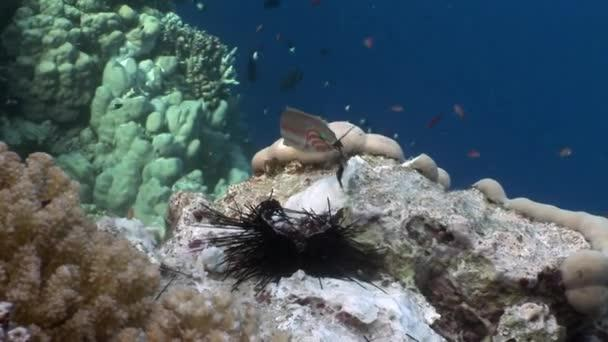urchin: (192, 198, 406, 299)
